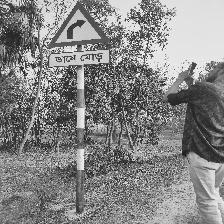Right-turn: (47, 1, 112, 68)
